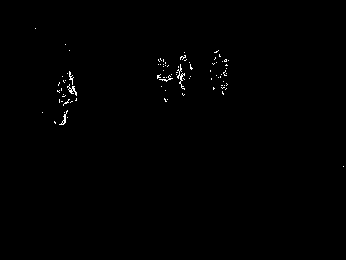person: (53, 69, 79, 127), (208, 49, 231, 97), (155, 57, 174, 107), (175, 52, 193, 98)
